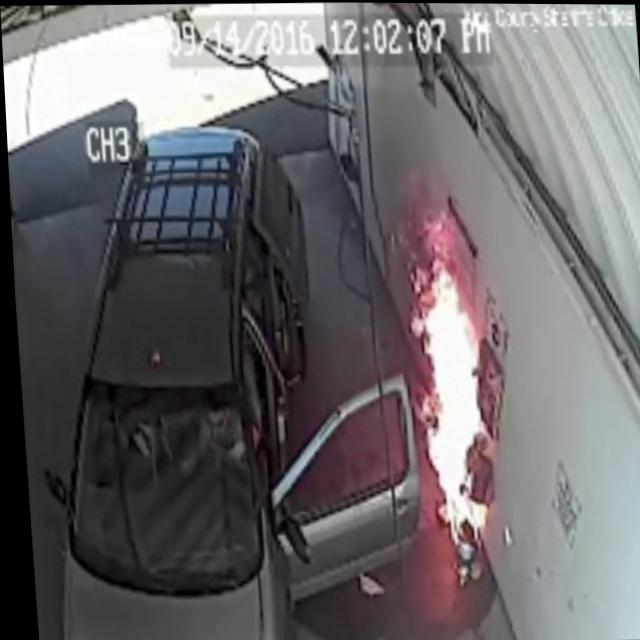fire: (400, 202, 497, 561)
